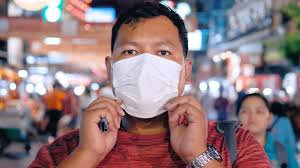mask: (104, 5, 196, 116)
